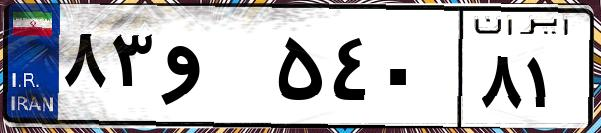0: (385, 28, 445, 110)
1: (525, 38, 570, 115)
3: (110, 28, 158, 98)
4: (330, 28, 385, 110)
5: (270, 28, 330, 110)
8: (57, 26, 110, 100), (475, 38, 525, 113)
و: (158, 20, 270, 120)
